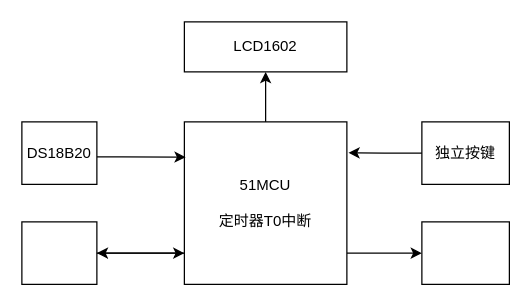
Some shapes in this 531 by 306 pixel diagram are drawn without their labels. Here are the shapes that lost their labels. From the top down, the box of each, then its label:
(21, 221, 97, 284): DS1302
(421, 221, 509, 284): 蜂鸣器
